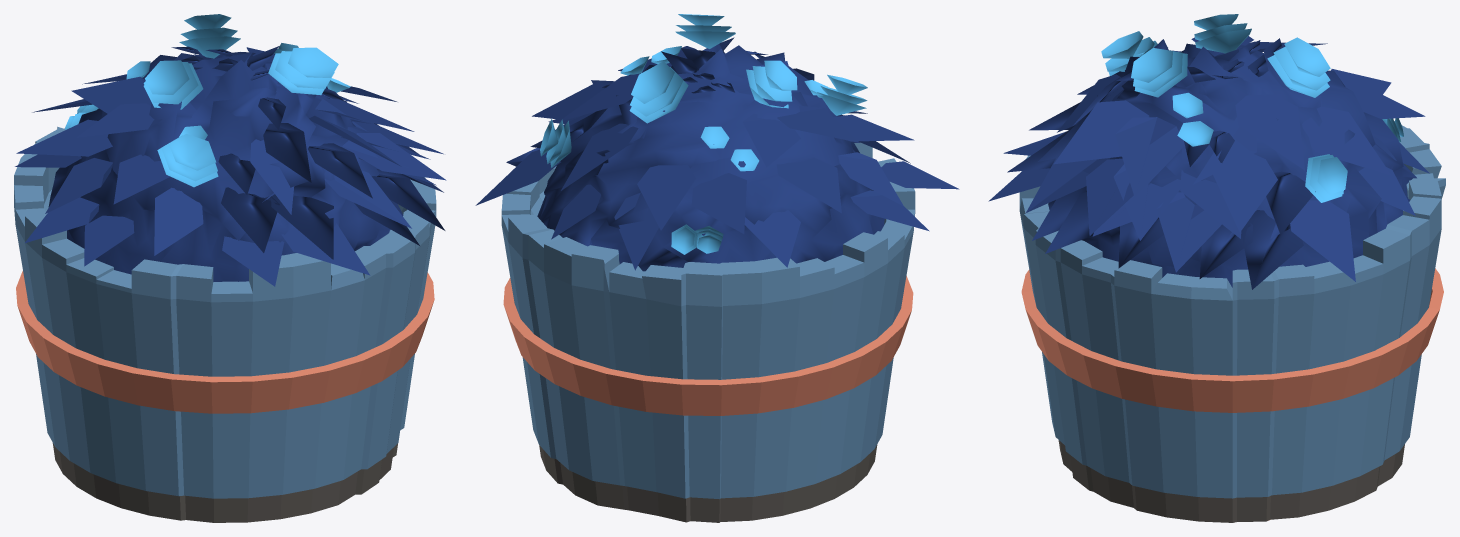
File: flower4.glb
The picture shows the model from 3 angles, left to right: view 1: azimuth 30°, elevation 25°; view 2: azimuth 150°, elevation 25°; view 3: azimuth 270°, elevation 25°; orthographic projection. The views are drawn at different scales.
Parts seen in each view (by area): view 1: Plane.005; view 2: Plane.005; view 3: Plane.005.
Boxes of the visible parts, left/top/right/bottom form: Plane.005: left=14, top=14, right=446, bottom=522; Plane.005: left=475, top=14, right=959, bottom=522; Plane.005: left=988, top=14, right=1445, bottom=522.
Size of the model in its own units: 2.24 by 2.3 by 2.15.
